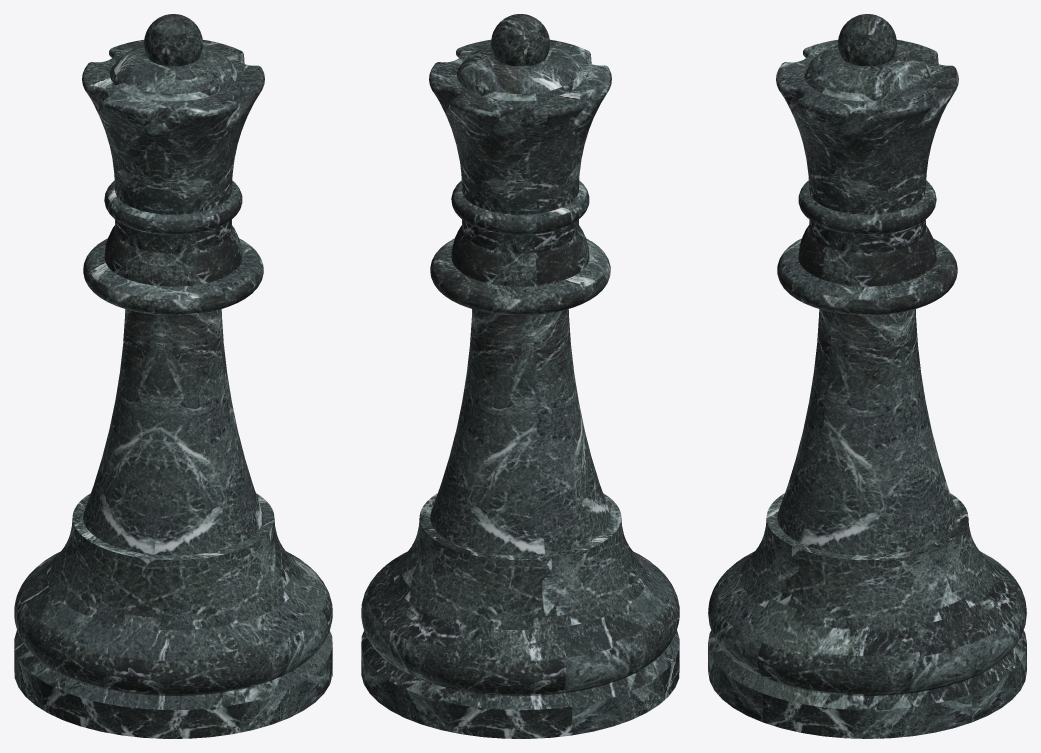
The model's file is Black-Queen.glb.
3 renders of one model, left to right at view 1: azimuth 30°, elevation 25°; view 2: azimuth 150°, elevation 25°; view 3: azimuth 270°, elevation 25°, orthographic.
Parts seen in each view (by area): view 1: ASSET_Joined; view 2: ASSET_Joined; view 3: ASSET_Joined.
Part boxes in pixels (x1=…): ASSET_Joined: x1=14, y1=14, x2=332, y2=738; ASSET_Joined: x1=361, y1=14, x2=679, y2=738; ASSET_Joined: x1=708, y1=14, x2=1026, y2=738.
Size of the model in its own units: 18.77 by 42.54 by 18.77.
1 material, 1 textured.
